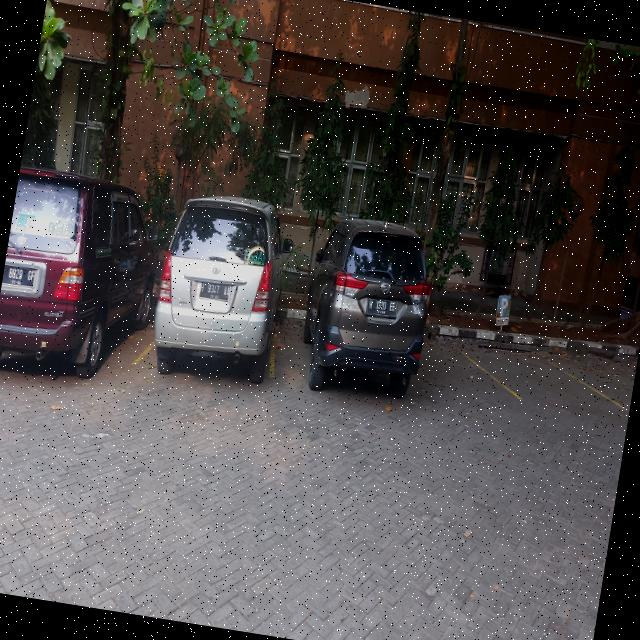empty: (453, 346, 621, 408), (415, 346, 520, 399)
occupied: (0, 166, 154, 381), (271, 222, 429, 405), (135, 195, 283, 378)
